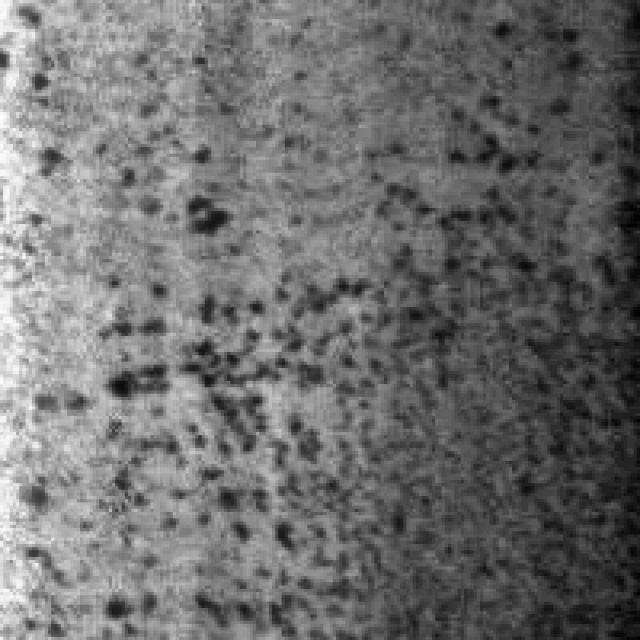Rolled_in_Scale: (58, 64, 476, 608)
